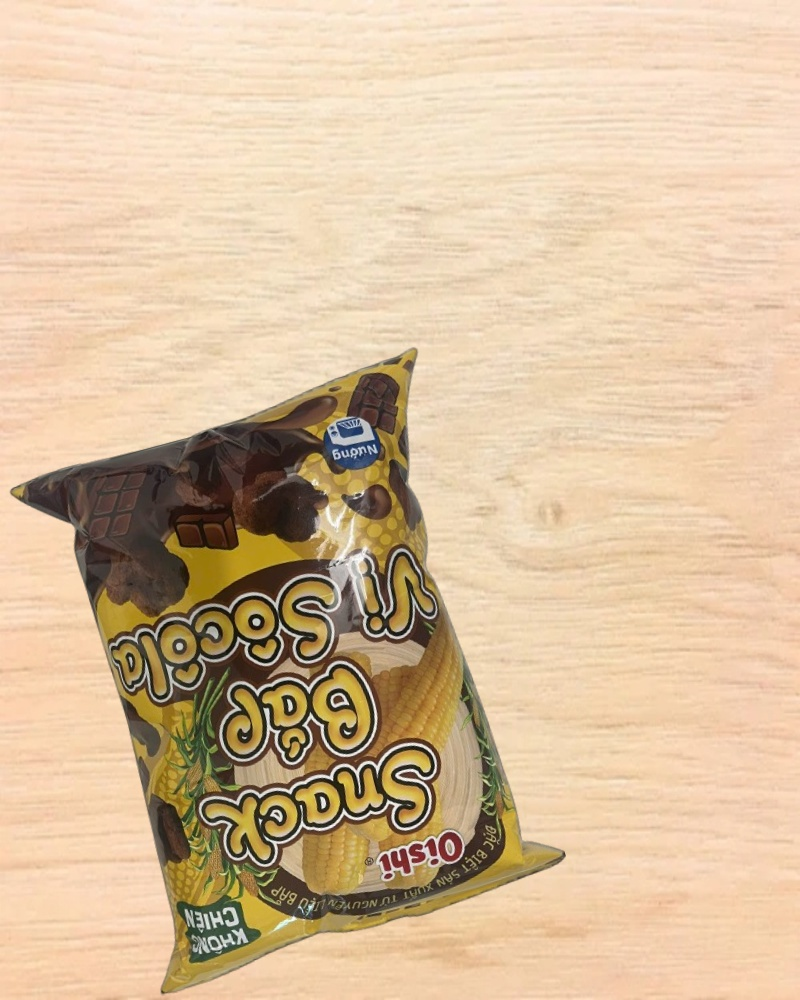Snack socola: (4, 347, 573, 998)
